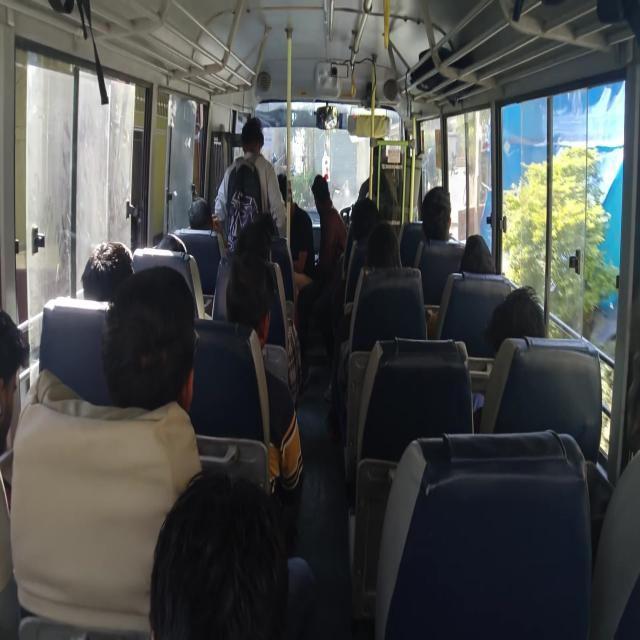person: (150, 468, 292, 638), (100, 263, 198, 414), (224, 243, 276, 343), (0, 308, 28, 486), (484, 286, 546, 355), (80, 241, 136, 305), (234, 211, 276, 265), (622, 345, 640, 461), (420, 185, 453, 244), (365, 220, 401, 270), (458, 234, 496, 276), (349, 197, 382, 243), (310, 170, 336, 207), (188, 198, 214, 232), (156, 232, 190, 254), (241, 116, 264, 144), (276, 173, 287, 203), (358, 178, 371, 202)
